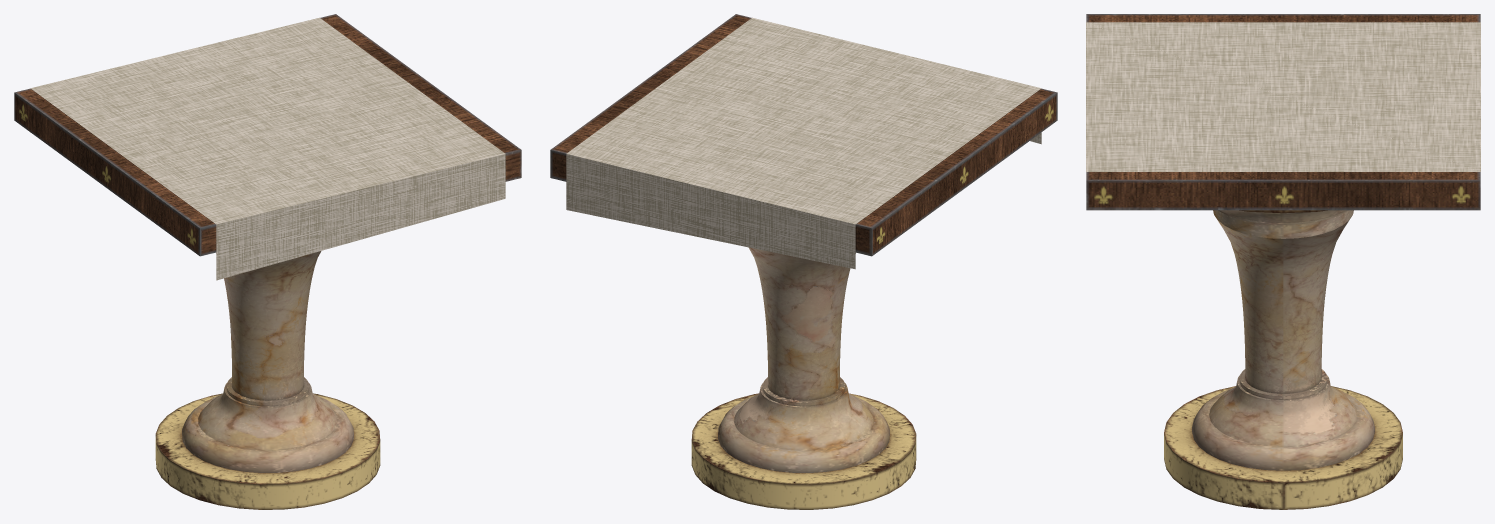
Rendered from room1_table.glb.
3 views of the same model, side by side, from view 1: azimuth 30°, elevation 25°; view 2: azimuth 150°, elevation 25°; view 3: azimuth 270°, elevation 25° (orthographic). The views are drawn at different scales.
Parts seen in each view (by area): view 1: room1_table; view 2: room1_table; view 3: room1_table.
Boxes of the visible parts, box(x1,y1,x2,y2) form: room1_table: box(14, 14, 521, 509); room1_table: box(550, 14, 1057, 509); room1_table: box(1086, 14, 1480, 509).
Size of the model in its own units: 3 by 3.04 by 3.01.
1 material, 1 textured.
